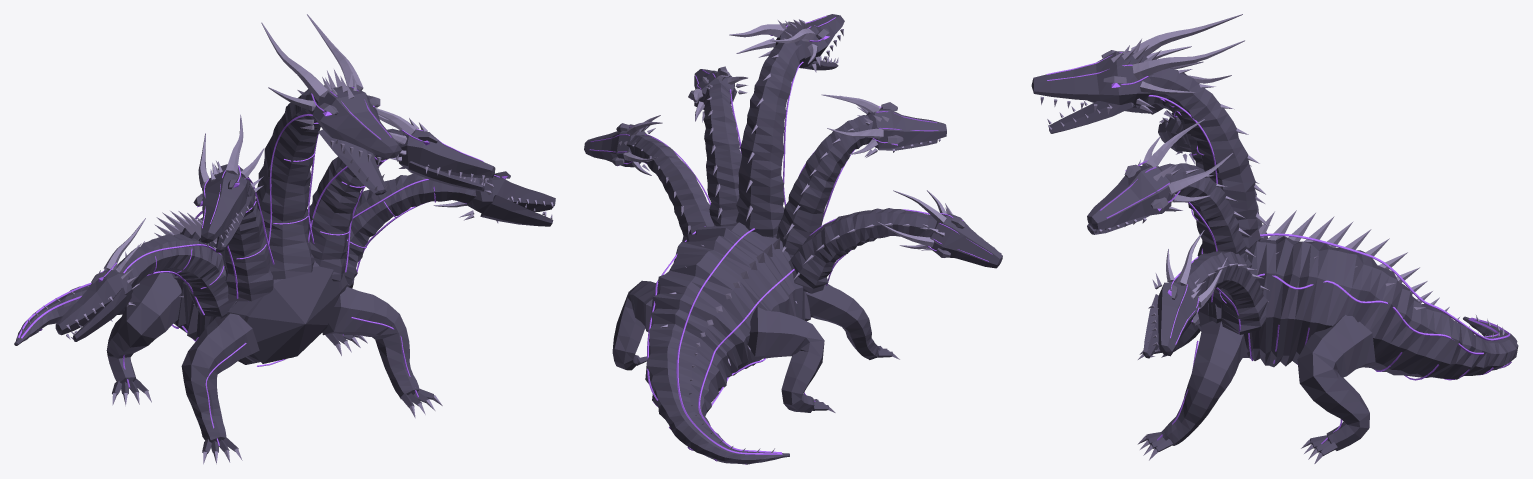
Rendered from Hidra.obj.
The picture shows the model from 3 angles, left to right: view 1: azimuth 30°, elevation 25°; view 2: azimuth 150°, elevation 25°; view 3: azimuth 270°, elevation 25°; orthographic projection. The views are drawn at different scales.
Parts seen in each view (by area): view 1: Hidra_Cuerpo, Hidra_Hueso, Hidra_Brillo, Hidra_Cuerpo2; view 2: Hidra_Cuerpo, Hidra_Hueso, Hidra_Brillo, Hidra_Cuerpo2; view 3: Hidra_Cuerpo, Hidra_Hueso, Hidra_Brillo, Hidra_Cuerpo2.
Part boxes in pixels (x1,y1,x2,y2): Hidra_Cuerpo: (14,85,555,453); Hidra_Hueso: (22,14,553,464); Hidra_Brillo: (17,87,499,445); Hidra_Cuerpo2: (91,95,510,283); Hidra_Cuerpo: (584,14,1002,464); Hidra_Hueso: (619,19,1001,453); Hidra_Brillo: (589,16,992,464); Hidra_Cuerpo2: (612,23,965,257); Hidra_Cuerpo: (1031,51,1518,455); Hidra_Hueso: (1040,14,1504,463); Hidra_Brillo: (1046,52,1511,443); Hidra_Cuerpo2: (1101,50,1199,325).
Bounding box in the file's own units: 5.38 × 4 × 4.63.
